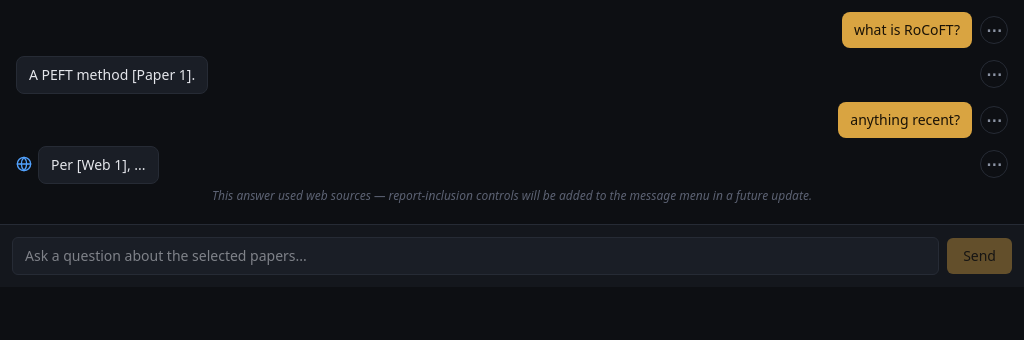
ChatModePanel -- curation-chat-select Phase 2: message menu + select mode › clicking Select in a message menu enters select mode with checkboxes, and no bulk bar yet
Click the button with test id "message-menu-button".
click(994, 30)  # box [980, 16, 1008, 44]
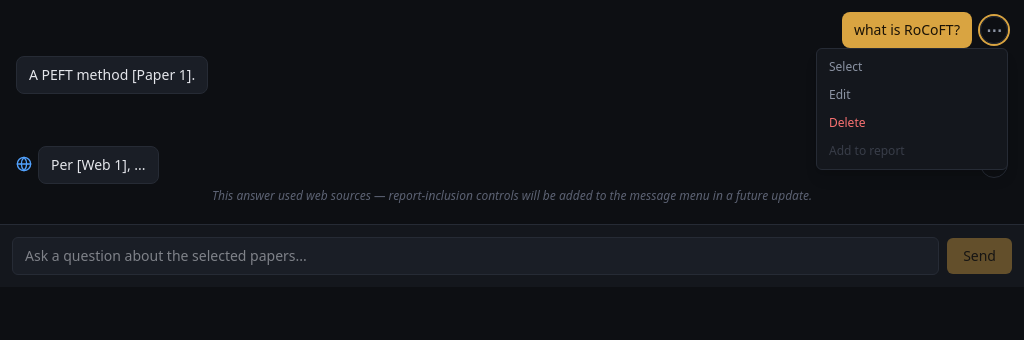
Click the menu item with test id "message-menu-select".
click(912, 67)  # box [817, 53, 1007, 81]
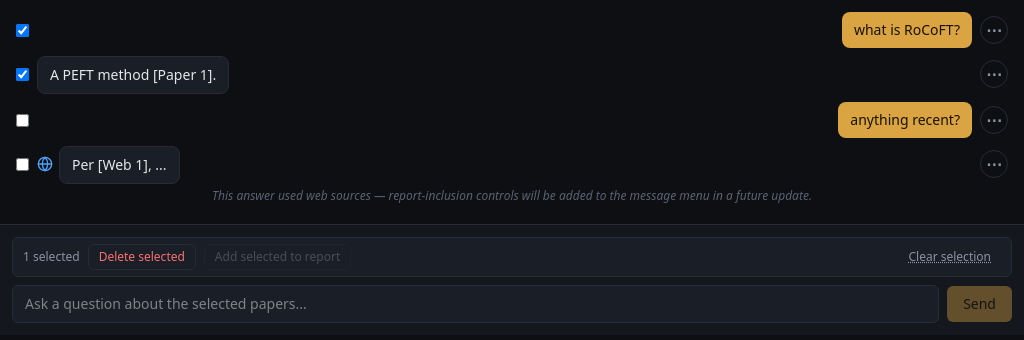
Expected: the number of checkboxes with test id "exchange-select-checkbox" is 4, [16, 24, 29, 37]; [16, 68, 29, 81]; [16, 114, 29, 127]; [16, 158, 29, 171]
Expected: the text with test id "bulk-selected-count" reads "1 selected", [23, 249, 80, 265]
